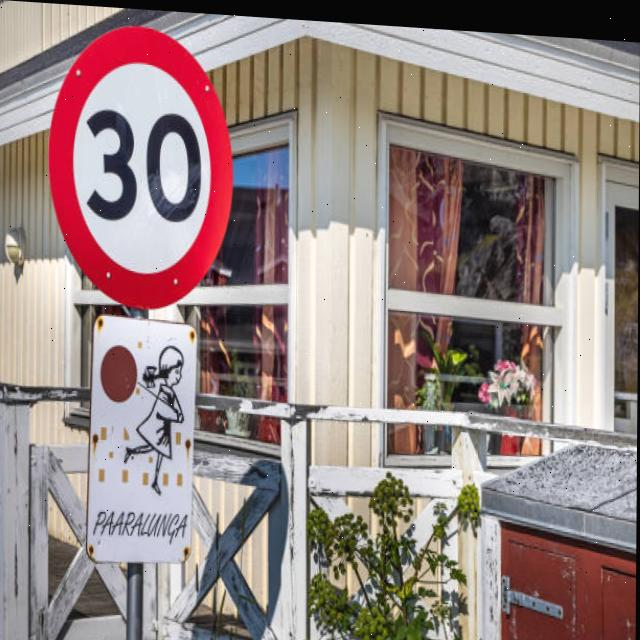Speed limit 30: (46, 17, 237, 314)
